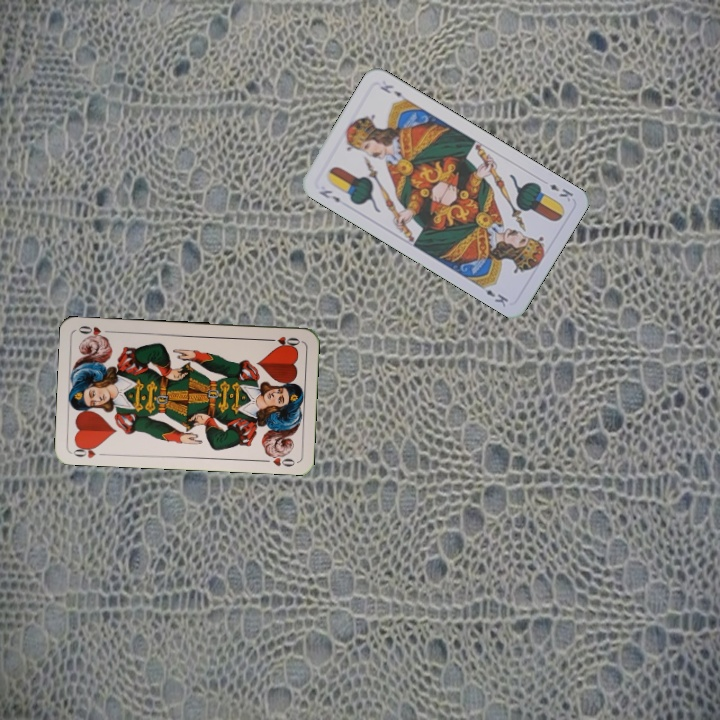EK: (545, 180, 576, 204), (315, 186, 343, 205)
HO: (263, 332, 302, 349), (69, 441, 101, 460)
